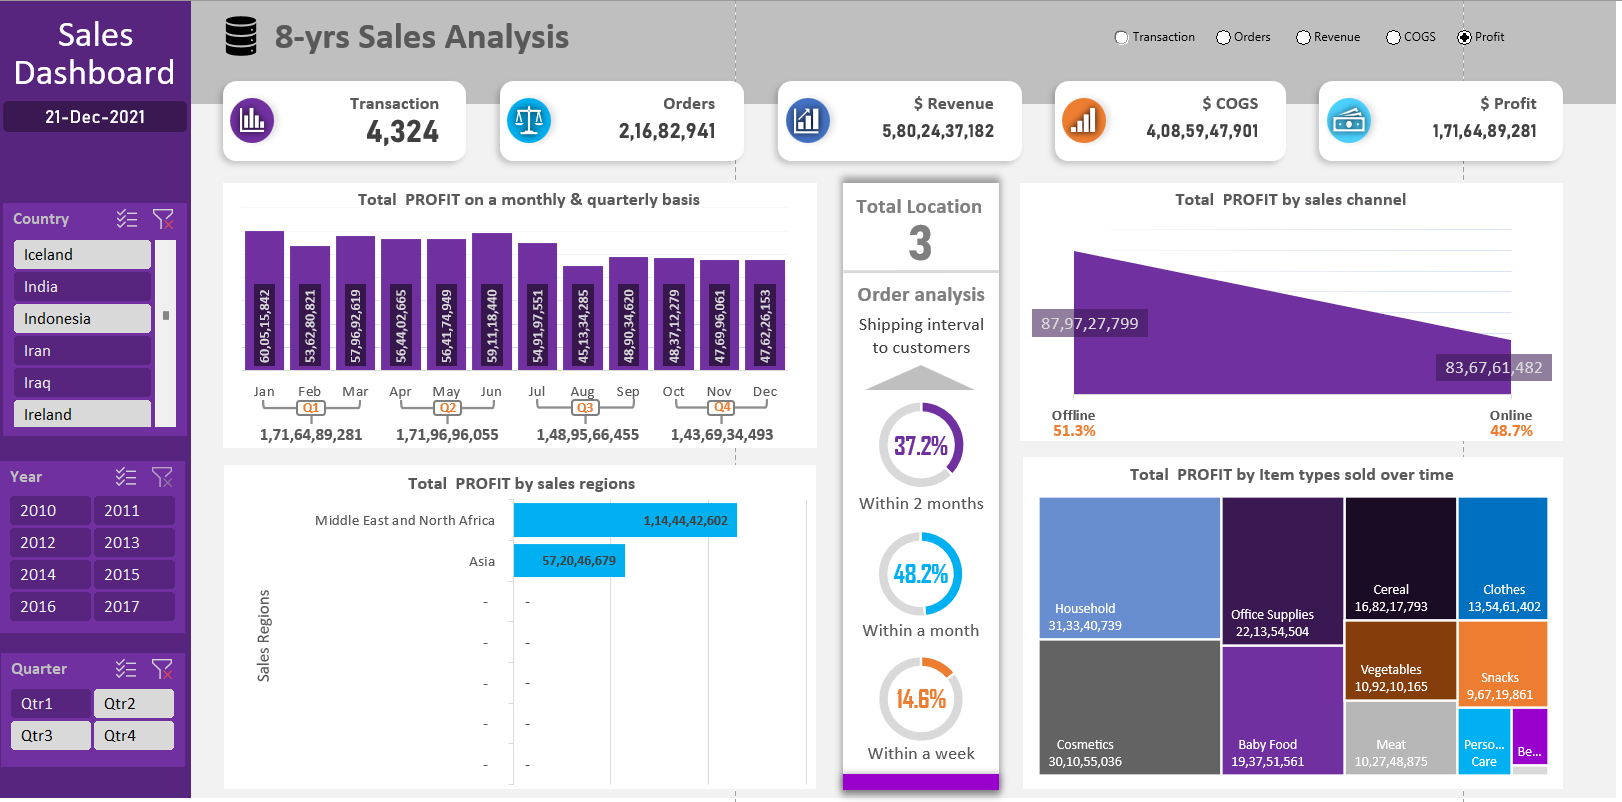

The page's visual inventory and layout, read from the dashboard file:
{"tool":"powerbi","page":{"name":"Profit","canvas":[1280,720],"ordinal":3},"visuals":[{"type":"card","title":"# Transactions","fields":{"Values":["MeasuresTable.# Transactions"]},"box":[319.6,193,120.6,85.6],"z":0},{"type":"actionButton","title":"Inactive Week","box":[340.6,643.6,100.1,40.3],"z":0,"group":"g3"},{"type":"actionButton","title":"InactiveMonth","box":[487,643.6,100.1,39.8],"z":0,"group":"g2"},{"type":"actionButton","title":"Inactive Qtr","box":[633.4,643.6,100.1,40.3],"z":0,"group":"g4"},{"type":"card","title":"# Quantity","fields":{"Values":["MeasuresTable.# Total Quantity"]},"box":[457.1,194.2,149.5,85.6],"z":1000},{"type":"actionButton","title":"ActiveYear","box":[779.9,643.6,100.1,40.3],"z":1000,"group":"g1"},{"type":"card","title":"Net Sales","fields":{"Values":["MeasuresTable.Net Revenue"]},"box":[615.1,194.2,149.5,85.6],"z":2000},{"type":"card","title":"Profit","fields":{"Values":["MeasuresTable.Total Profit"]},"box":[764.6,193,150.8,85.6],"z":3000},{"type":"card","title":"Total Products","fields":{"Values":["MeasuresTable.Total No of Products"]},"box":[872,194.2,278.6,85.6],"z":4000},{"type":"columnChart","title":"Year T chart","fields":{"Category":["DimDates.Year"],"Y":["MeasuresTable.Total Profit"]},"box":[318.4,308.7,577.7,332.9],"z":8000},{"type":"group","id":"g1","title":"Year Button","box":[770,642.7,110,41.2],"z":9000},{"type":"group","id":"g2","title":"Month Button","box":[487,643.6,100.1,40.3],"z":10000},{"type":"group","id":"g3","title":"Week Button","box":[340.6,643.6,100.1,40.3],"z":11000},{"type":"group","id":"g4","title":"Qtr Button","box":[633.4,643.6,100.1,40.3],"z":12000},{"type":"card","title":"Total Customers","fields":{"Values":["MeasuresTable.Total Customer Base"]},"box":[955,605.3,279.1,91.8],"z":13000},{"type":"columnChart","title":"Customer Base by Country","fields":{"Category":["DimCustomers.CountryName"],"Y":["MeasuresTable.Total Customer Base"]},"box":[942.6,308.8,300.2,200.9],"z":14000},{"type":"textbox","box":[317.8,53.5,335.2,46.2],"z":15000},{"type":"actionButton","box":[73.7,112.7,218.1,44.8],"z":16000},{"type":"actionButton","box":[472.4,122.8,124.2,156],"z":17000},{"type":"actionButton","box":[633.1,117.6,117.6,160.9],"z":18000},{"type":"actionButton","box":[317.5,117.8,122.8,161.2],"z":19000},{"type":"actionButton","box":[471,117,122.8,161.8],"z":20000},{"type":"actionButton","box":[627,115.6,122.8,161.8],"z":21000},{"type":"card","fields":{"Values":["Min(DimDates.Date)"]},"box":[632.8,65,140.1,34.7],"z":22000},{"type":"card","fields":{"Values":["Max(DimDates.Date)"]},"box":[780.1,63.6,140.1,34.7],"z":23000},{"type":"textbox","box":[765.7,62.1,49.1,43.3],"z":24000},{"type":"slicer","title":"Select the dates","fields":{"Values":["DimDates.Date"]},"box":[72.4,411.3,205,159.2],"z":25000},{"type":"actionButton","box":[73.7,212.4,218.1,44.8],"z":26000},{"type":"actionButton","box":[1108.1,225.4,125.7,50.6],"z":27000},{"type":"shape","box":[1112.4,147.4,115.6,46.2],"z":28000},{"type":"actionButton","box":[1108.1,147.4,115.6,46.2],"z":29000},{"type":"slicer","fields":{"Values":["DimCategory.CategoryName"]},"box":[73.6,296.7,205,103.7],"z":30000},{"type":"image","box":[964.8,118.2,78.4,77.2],"z":31000}]}

Visuals, with their boxes on the page's 1280x720 design canvas (x1, y1, x2, y2). These are canvas units, not pixel positions in the 1622x802 screenshot, which may show the page scaled, cropped or inside an application window:
"# Transactions" card: bbox(320, 193, 440, 279)
"Inactive Week" actionButton: bbox(341, 644, 441, 684)
"InactiveMonth" actionButton: bbox(487, 644, 587, 683)
"Inactive Qtr" actionButton: bbox(633, 644, 734, 684)
"# Quantity" card: bbox(457, 194, 607, 280)
"ActiveYear" actionButton: bbox(780, 644, 880, 684)
"Net Sales" card: bbox(615, 194, 765, 280)
"Profit" card: bbox(765, 193, 915, 279)
"Total Products" card: bbox(872, 194, 1151, 280)
"Year T chart" columnChart: bbox(318, 309, 896, 642)
"Year Button" group: bbox(770, 643, 880, 684)
"Month Button" group: bbox(487, 644, 587, 684)
"Week Button" group: bbox(341, 644, 441, 684)
"Qtr Button" group: bbox(633, 644, 734, 684)
"Total Customers" card: bbox(955, 605, 1234, 697)
"Customer Base by Country" columnChart: bbox(943, 309, 1243, 510)
textbox: bbox(318, 54, 653, 100)
actionButton: bbox(74, 113, 292, 158)
actionButton: bbox(472, 123, 597, 279)
actionButton: bbox(633, 118, 751, 278)
actionButton: bbox(318, 118, 440, 279)
actionButton: bbox(471, 117, 594, 279)
actionButton: bbox(627, 116, 750, 277)
card - Min(DimDates.Date): bbox(633, 65, 773, 100)
card - Max(DimDates.Date): bbox(780, 64, 920, 98)
textbox: bbox(766, 62, 815, 105)
"Select the dates" slicer: bbox(72, 411, 277, 570)
actionButton: bbox(74, 212, 292, 257)
actionButton: bbox(1108, 225, 1234, 276)
shape: bbox(1112, 147, 1228, 194)
actionButton: bbox(1108, 147, 1224, 194)
slicer - DimCategory.CategoryName: bbox(74, 297, 279, 400)
image: bbox(965, 118, 1043, 195)
